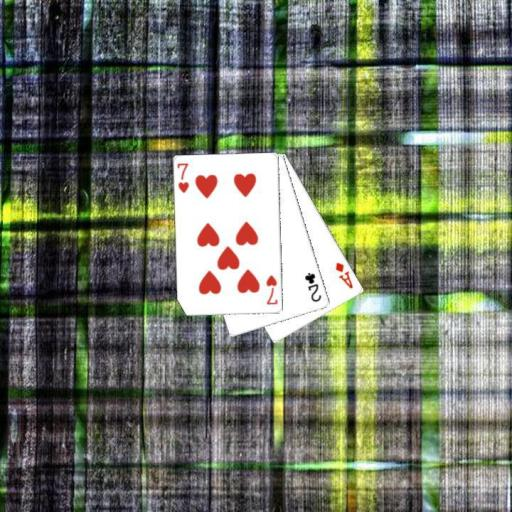2C: (301, 270, 323, 304)
7H: (174, 160, 191, 195), (263, 272, 279, 307)
AD: (333, 259, 355, 290)
